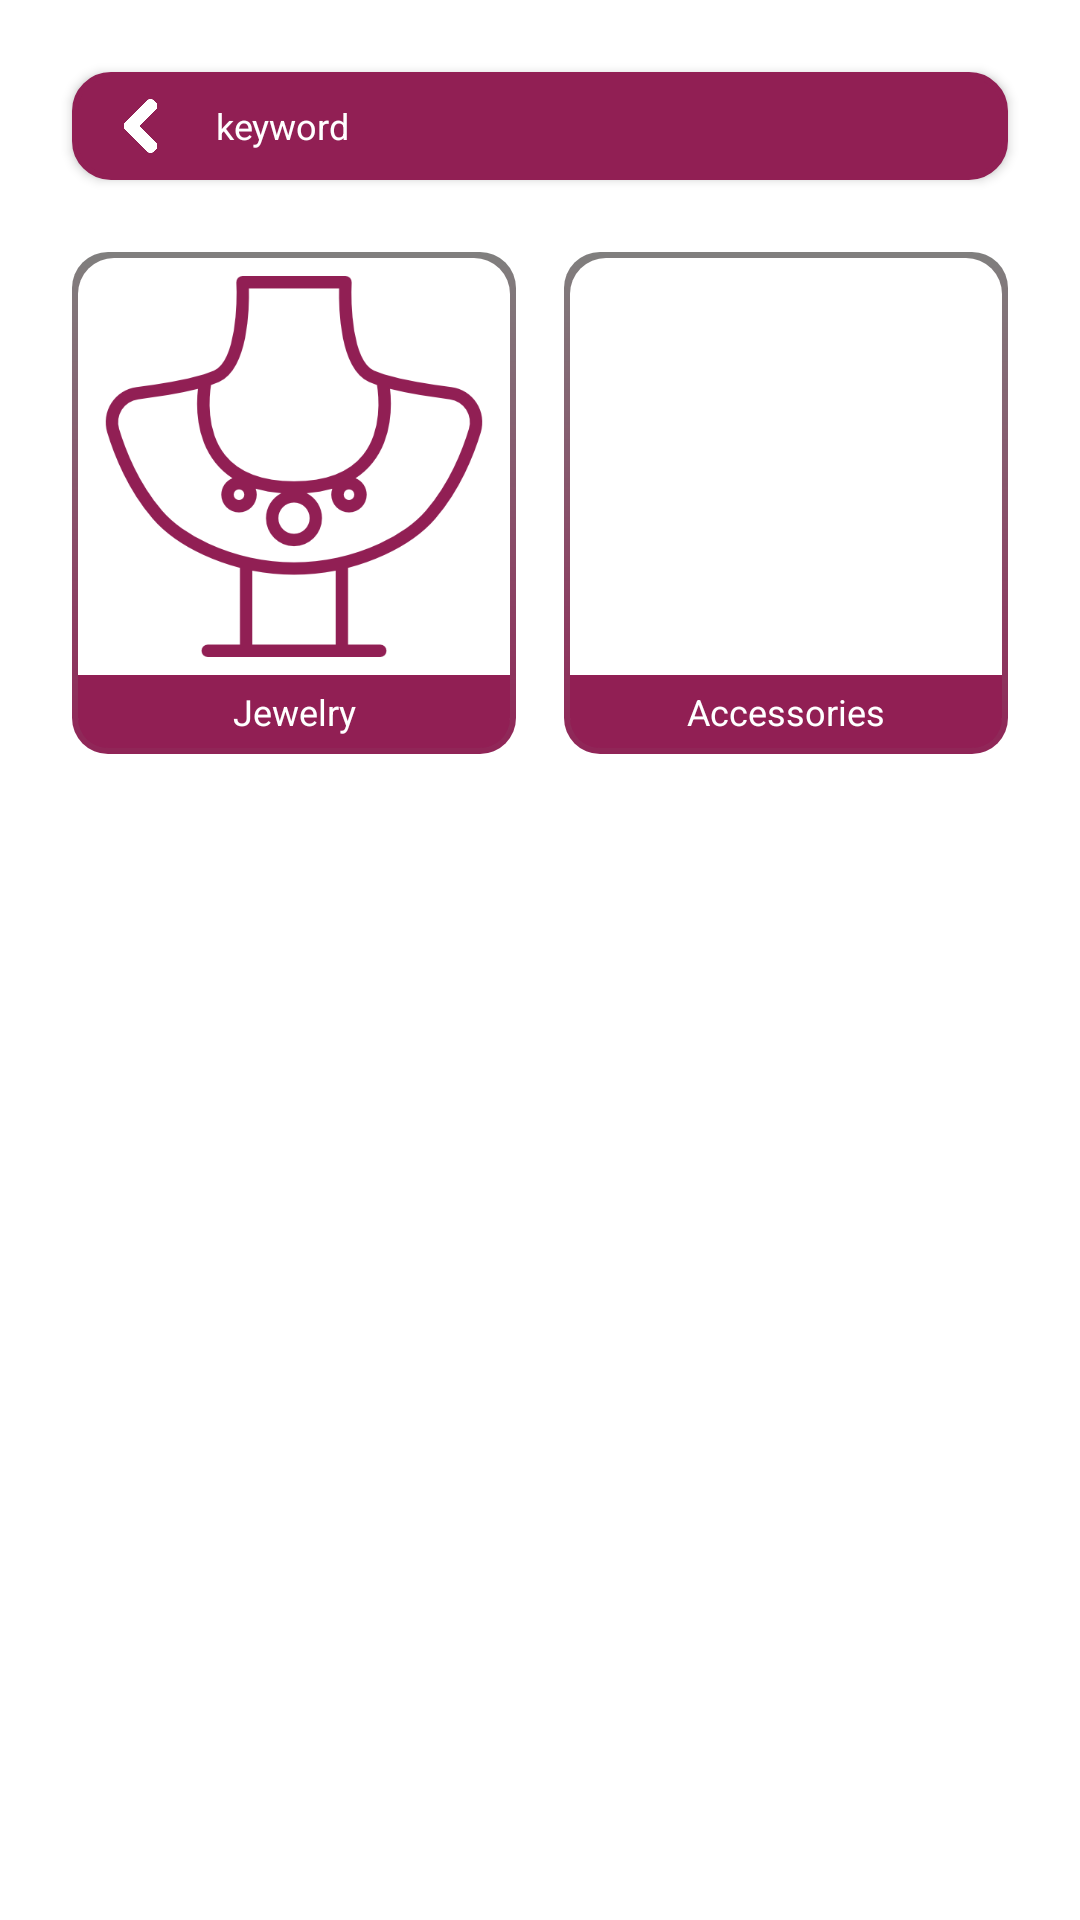

Icons on this 1080×1920 Android screen, each with the point to tap as (x,y):
arrow left: (140,126)
